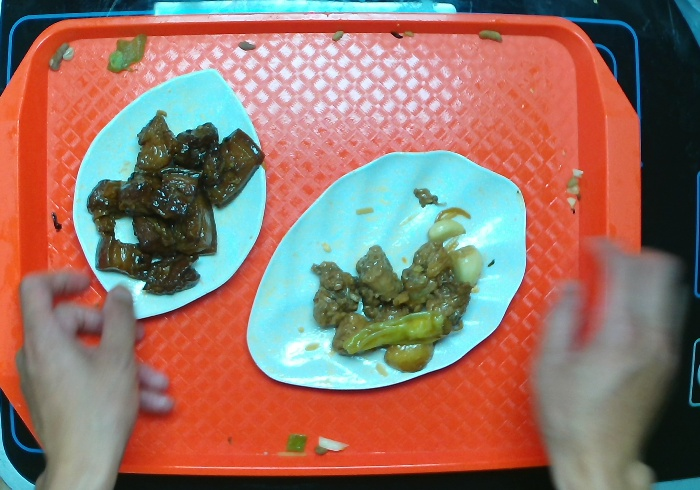RJxy-Bai_Ye_Pan: (243, 145, 530, 396)
RJxy-Da_Du_Pan: (68, 66, 269, 322)
